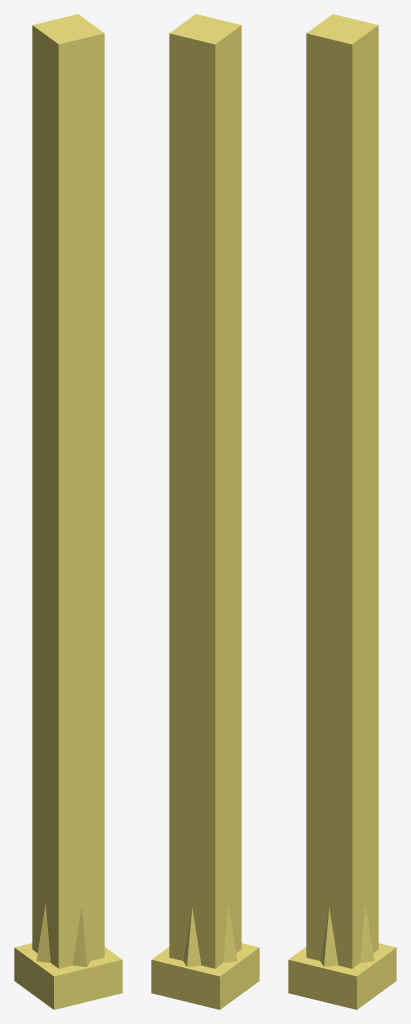
The model's file is hazard_stake_yellow_02.glb.
3 renders of one model, left to right at view 1: azimuth 30°, elevation 25°; view 2: azimuth 150°, elevation 25°; view 3: azimuth 330°, elevation 25°, orthographic.
Parts seen in each view (by area): view 1: Hazard_stake_yellow_02; view 2: Hazard_stake_yellow_02; view 3: Hazard_stake_yellow_02.
Boxes of the visible parts, x1,y1,x2,y2 form: Hazard_stake_yellow_02: (14, 14, 122, 1009); Hazard_stake_yellow_02: (151, 14, 259, 1009); Hazard_stake_yellow_02: (288, 14, 396, 1009).
Size of the model in its own units: 0.075 by 1 by 0.075.
